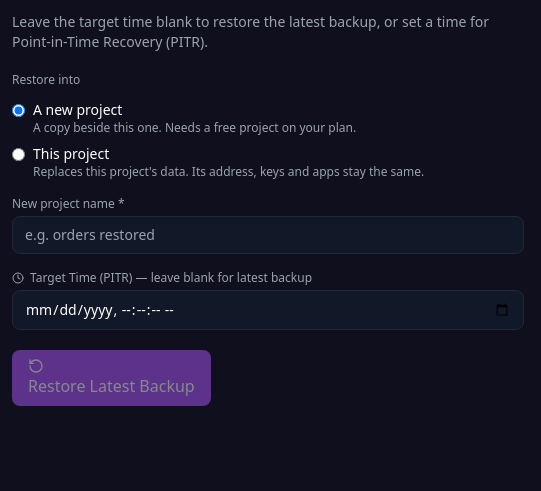
Test: RestoreForm on a plan at its project limit › a completed replace says the project now holds the restored data
Step 1. Click the radio button labelled "This project" → (18, 154), box [12, 148, 25, 161]
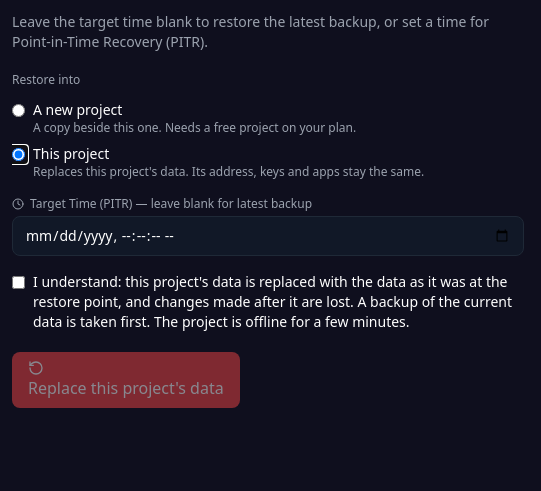
Step 2. Click the checkbox labelled "I understand" → (18, 282), box [12, 276, 25, 289]
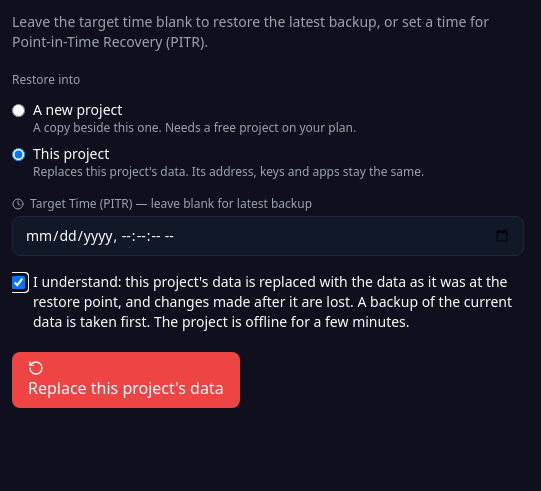
Step 3. Click the button "Replace this project's data" → (126, 380), box [12, 352, 240, 408]
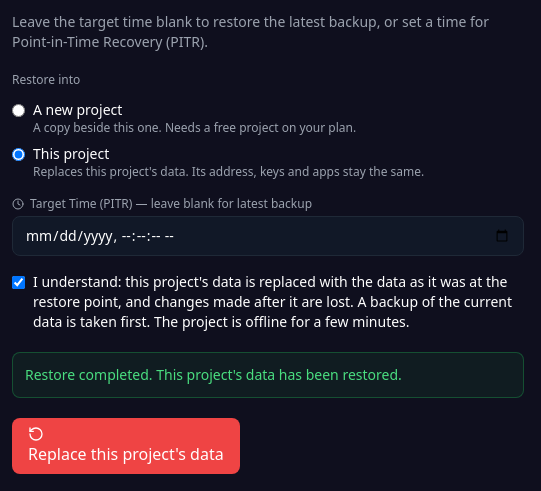
Expected: the text "Restore completed. This project's data has been restored." is shown, [25, 365, 402, 384]
